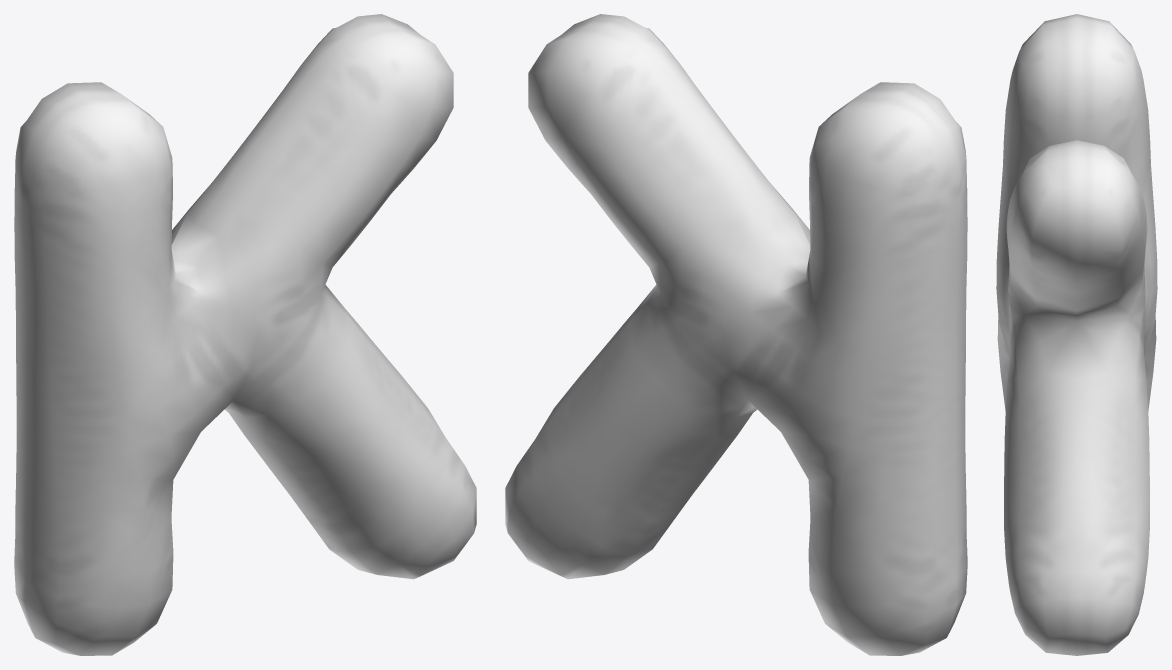
The model's file is LettersBalloon01_K.FBX.
The picture shows the model from 3 angles, left to right: view 1: azimuth 30°, elevation 25°; view 2: azimuth 150°, elevation 25°; view 3: azimuth 270°, elevation 25°; orthographic projection. The views are drawn at different scales.
Parts seen in each view (by area): view 1: LettersBalloon01_K; view 2: LettersBalloon01_K; view 3: LettersBalloon01_K.
Part boxes in pixels (left/top/right/bottom): LettersBalloon01_K: left=14, top=14, right=476, bottom=655; LettersBalloon01_K: left=505, top=14, right=967, bottom=655; LettersBalloon01_K: left=996, top=14, right=1157, bottom=655.
Size of what is drawn, in the model's own units: 0.4044 by 0.4929 by 0.1448.
